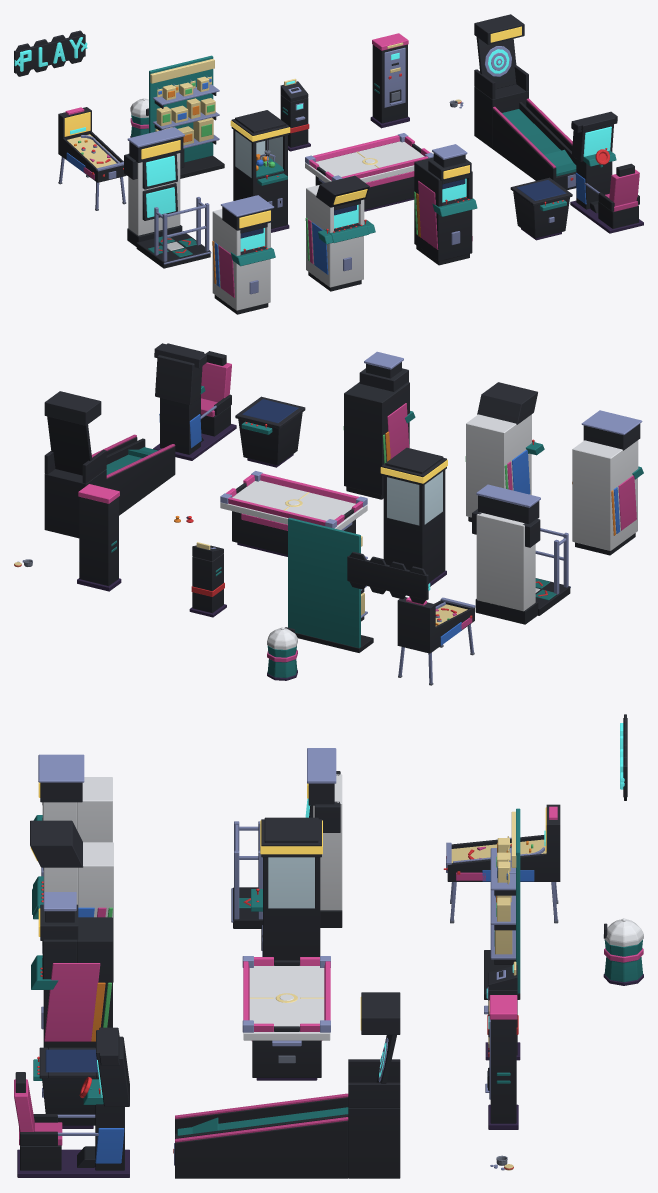
File: pack.glb
3 renders of one model, top to bottom at view 1: azimuth 30°, elevation 25°; view 2: azimuth 150°, elevation 25°; view 3: azimuth 270°, elevation 25°, orthographic. The views are drawn at different scales.
Parts seen in each view (by area): view 1: skee_ball, dance_stage, arcade_upright_alpha, arcade_upright_gamma, arcade_upright_beta, prize_wall, driving_cab, air_hockey_table, claw_machine, pinball, token_changer, arcade_cocktail (+3 smaller); view 2: skee_ball, dance_stage, arcade_upright_alpha, prize_wall, arcade_upright_gamma, driving_cab, claw_machine, air_hockey_table, arcade_upright_beta, token_changer, pinball, arcade_cocktail (+3 smaller); view 3: skee_ball, arcade_upright_gamma, air_hockey_table, driving_cab, claw_machine, dance_stage, arcade_upright_beta, arcade_upright_alpha, pinball, prize_wall, token_changer, arcade_cocktail (+2 smaller).
Part boxes in pixels (x1,y1,x2,y2): skee_ball: [474, 14, 576, 190]; dance_stage: [124, 127, 211, 268]; arcade_upright_alpha: [212, 195, 275, 314]; arcade_upright_gamma: [414, 144, 477, 265]; arcade_upright_beta: [305, 175, 375, 291]; prize_wall: [149, 55, 224, 178]; driving_cab: [570, 111, 643, 233]; air_hockey_table: [305, 133, 433, 211]; claw_machine: [230, 110, 290, 232]; pinball: [58, 107, 126, 210]; token_changer: [370, 33, 409, 128]; arcade_cocktail: [510, 177, 572, 240]; skee_ball: [44, 391, 175, 538]; dance_stage: [472, 484, 570, 624]; arcade_upright_alpha: [572, 410, 643, 555]; prize_wall: [288, 517, 373, 652]; arcade_upright_gamma: [343, 351, 415, 499]; driving_cab: [153, 343, 236, 460]; claw_machine: [380, 447, 447, 586]; air_hockey_table: [220, 471, 367, 556]; arcade_upright_beta: [465, 382, 544, 521]; token_changer: [77, 484, 121, 591]; pinball: [397, 597, 475, 685]; arcade_cocktail: [235, 396, 305, 467]; skee_ball: [173, 992, 400, 1178]; arcade_upright_gamma: [31, 892, 112, 1047]; air_hockey_table: [242, 956, 330, 1080]; driving_cab: [14, 1027, 129, 1177]; claw_machine: [251, 817, 322, 960]; dance_stage: [231, 748, 342, 928]; arcade_upright_beta: [30, 820, 113, 982]; arcade_upright_alpha: [33, 754, 112, 876]; pinball: [443, 804, 560, 923]; prize_wall: [484, 808, 520, 999]; token_changer: [485, 995, 518, 1129]; arcade_cocktail: [33, 1047, 98, 1128].
Bounding box in the file's own units: 7.97 × 2.25 × 7.26.
Materials: 2 (2 with a texture image).
